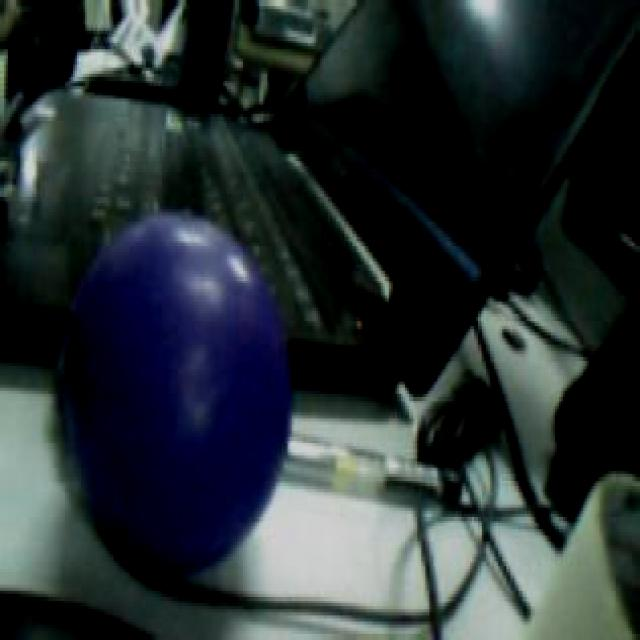BallPurple: (60, 209, 291, 572)
